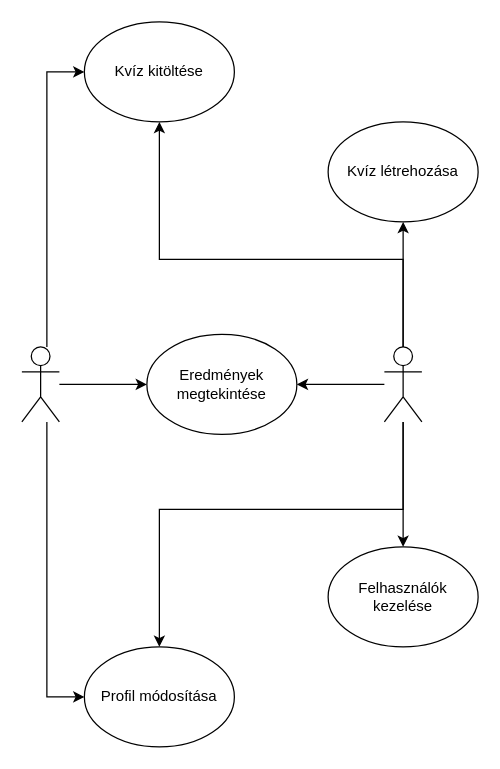
Image size: 500x769. Some labels were removed from this diagram. Each missing label, with the centre of its shape:
"Admin" belongs at point 402,384.
"Diák" belongs at point 40,384.
